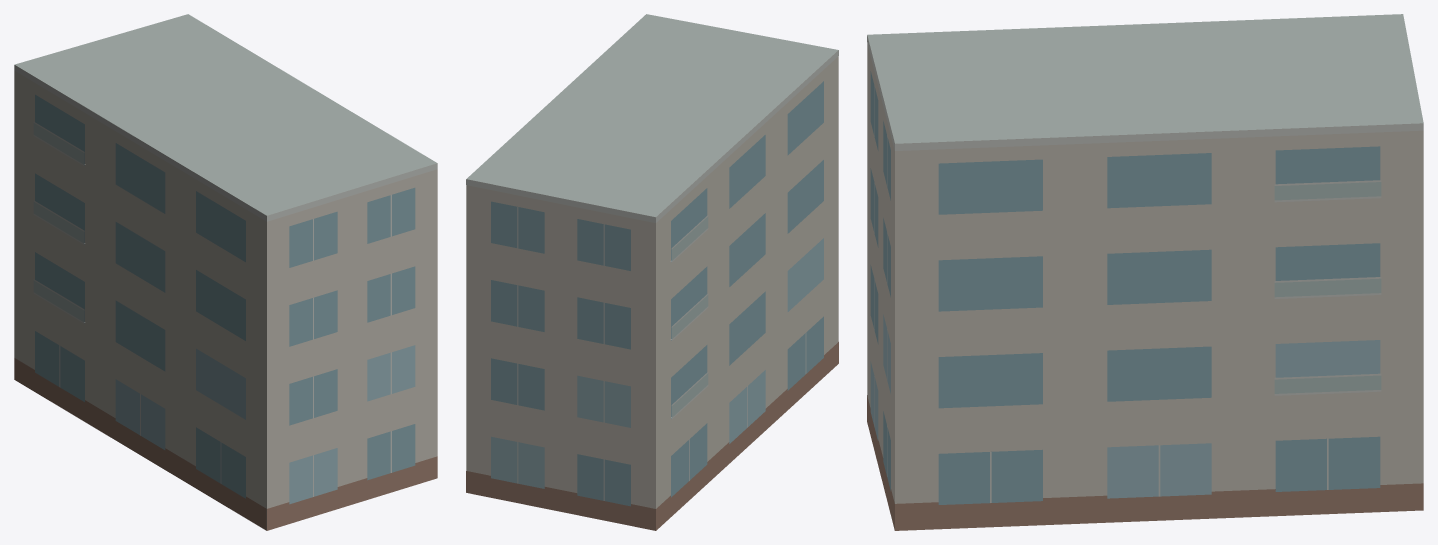
Rendered from survey-upis-32982210.glb.
3 views of the same model, side by side, from view 1: azimuth 30°, elevation 25°; view 2: azimuth 150°, elevation 25°; view 3: azimuth 270°, elevation 25° (orthographic). The views are drawn at different scales.
Parts seen in each view (by area): view 1: survey-upis-32982210.tmp; view 2: survey-upis-32982210.tmp; view 3: survey-upis-32982210.tmp.
Part boxes in pixels (x1=…): survey-upis-32982210.tmp: x1=14, y1=14, x2=437, y2=530; survey-upis-32982210.tmp: x1=466, y1=14, x2=838, y2=530; survey-upis-32982210.tmp: x1=867, y1=14, x2=1423, y2=530.
Size of the model in its own units: 9.29 by 12.9 by 16.82.
